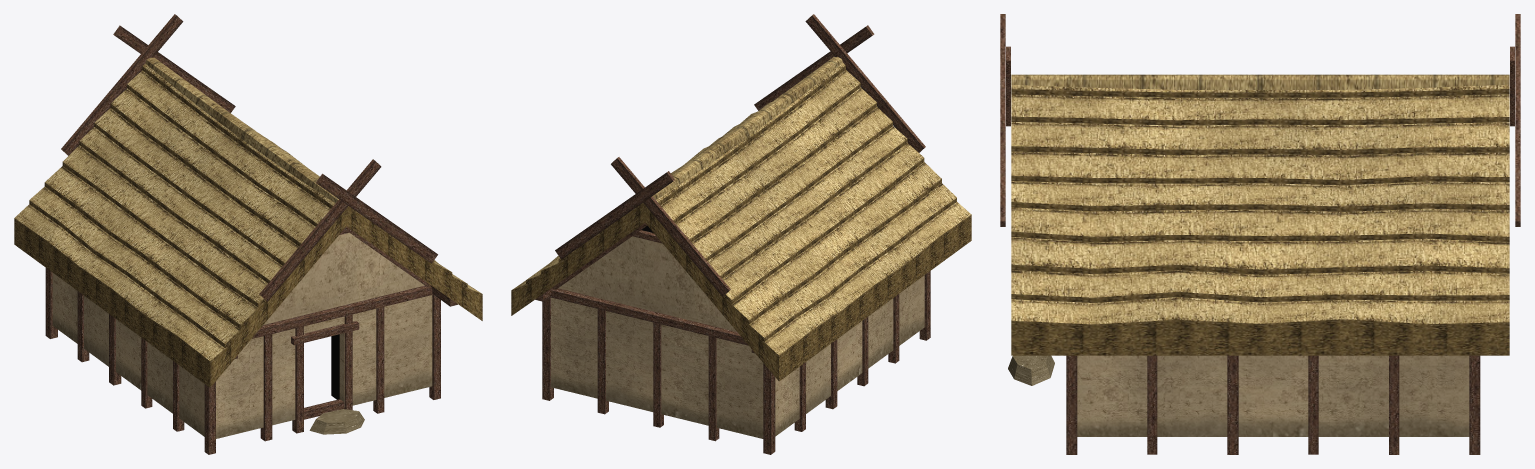
The model's file is vypleteny.glb.
The picture shows the model from 3 angles, left to right: view 1: azimuth 30°, elevation 25°; view 2: azimuth 150°, elevation 25°; view 3: azimuth 270°, elevation 25°; orthographic projection. The views are drawn at different scales.
Visible parts, largest first — view 1: vypleteny; view 2: vypleteny; view 3: vypleteny.
Boxes of the visible parts, x1=… form: vypleteny: x1=14, y1=14, x2=482, y2=454; vypleteny: x1=511, y1=14, x2=971, y2=454; vypleteny: x1=1000, y1=14, x2=1520, y2=454.
Size of the model in its own units: 5.5 by 5.35 by 7.15.
Materials: 1 (1 with a texture image).
